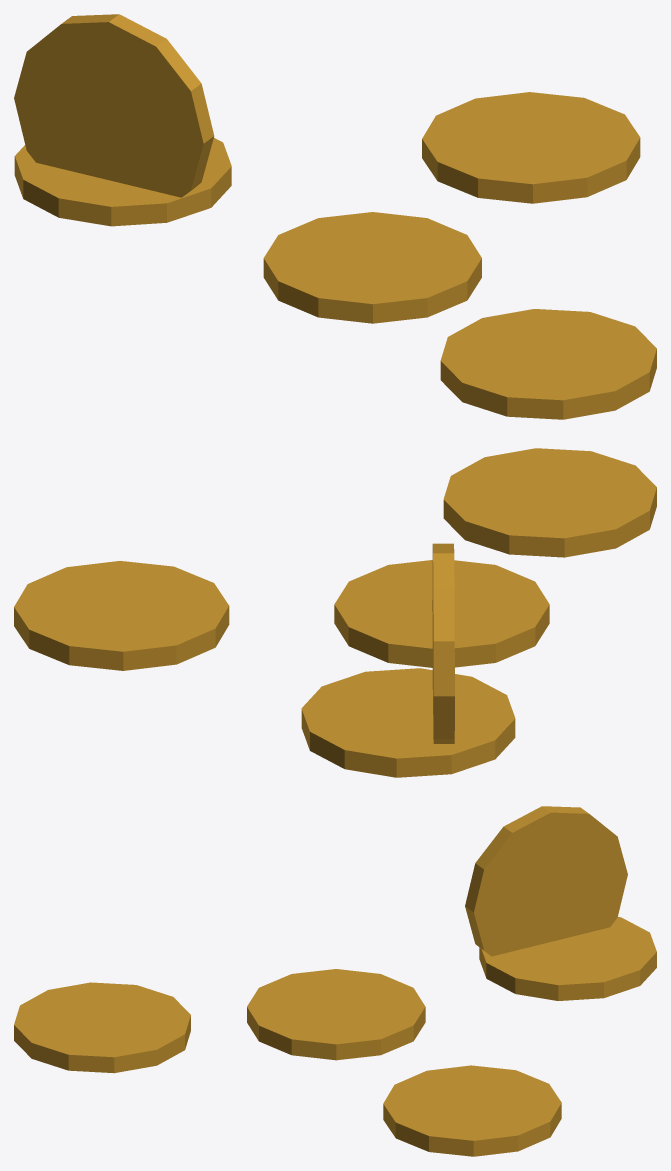
Rendered from pickup_coin.glb.
3 views of the same model, one above another, from view 1: azimuth 30°, elevation 25°; view 2: azimuth 150°, elevation 25°; view 3: azimuth 270°, elevation 25° (orthographic). The views are drawn at different scales.
Visible parts, largest first — view 1: Coin_Leaning, Coin_Flat_A, Coin_Flat_1, Coin_Flat_3, Coin_Flat_2; view 2: Coin_Flat_1, Coin_Flat_3, Coin_Flat_2, Coin_Flat_A, Coin_Leaning; view 3: Coin_Leaning, Coin_Flat_1, Coin_Flat_A, Coin_Flat_3, Coin_Flat_2.
Boxes of the visible parts, box(x1,y1,x2,y2) form: Coin_Leaning: box(14, 14, 214, 197); Coin_Flat_A: box(263, 212, 481, 323); Coin_Flat_1: box(422, 92, 640, 203); Coin_Flat_3: box(440, 309, 656, 419); Coin_Flat_2: box(14, 138, 231, 226); Coin_Flat_1: box(14, 561, 229, 670); Coin_Flat_3: box(443, 448, 656, 557); Coin_Flat_2: box(301, 668, 515, 777); Coin_Flat_A: box(334, 560, 549, 667); Coin_Leaning: box(432, 543, 454, 743); Coin_Leaning: box(465, 806, 627, 956); Coin_Flat_1: box(383, 1065, 561, 1156); Coin_Flat_A: box(247, 969, 425, 1060); Coin_Flat_3: box(14, 982, 190, 1073); Coin_Flat_2: box(479, 917, 656, 1000).
Size of the model in its own units: 0.0751 by 0.0264 by 0.095.
